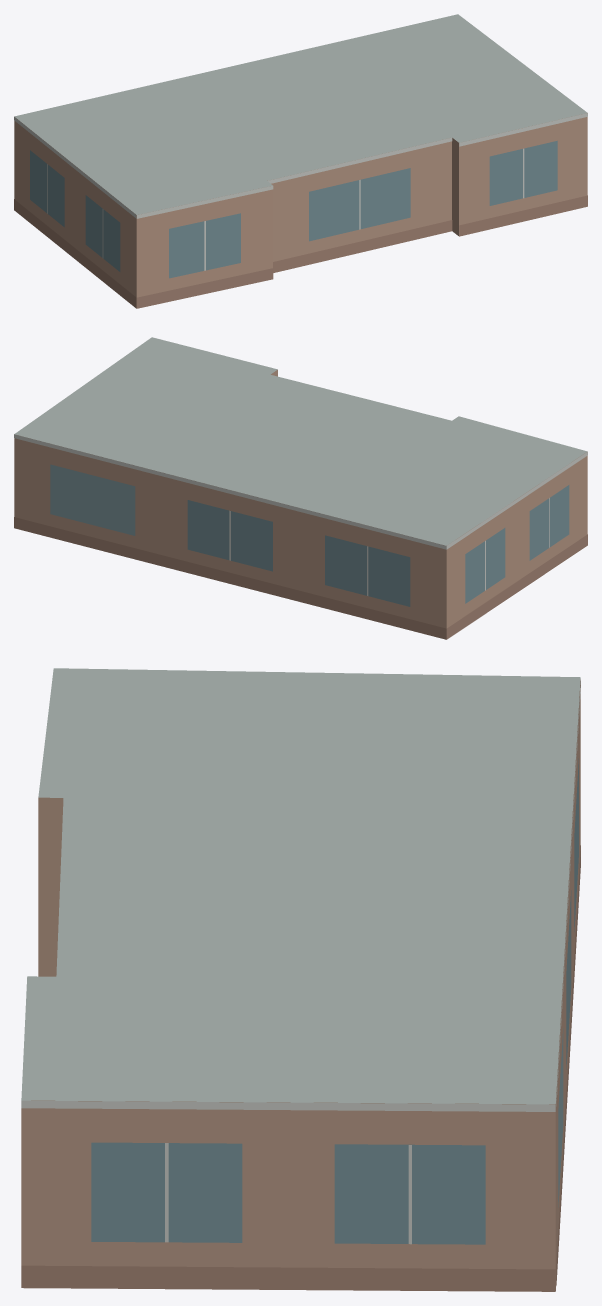
Rendered from survey-upis-32659370.glb.
3 views of the same model, one above another, from view 1: azimuth 30°, elevation 25°; view 2: azimuth 150°, elevation 25°; view 3: azimuth 270°, elevation 25° (orthographic). The views are drawn at different scales.
Visible parts, largest first — view 1: survey-upis-32659370.tmp; view 2: survey-upis-32659370.tmp; view 3: survey-upis-32659370.tmp.
Boxes of the visible parts, <box> form: survey-upis-32659370.tmp: <box>14,14,587,308</box>; survey-upis-32659370.tmp: <box>14,337,587,639</box>; survey-upis-32659370.tmp: <box>21,668,580,1291</box>.
Size of the model in its own units: 15.24 by 3.05 by 8.26.
